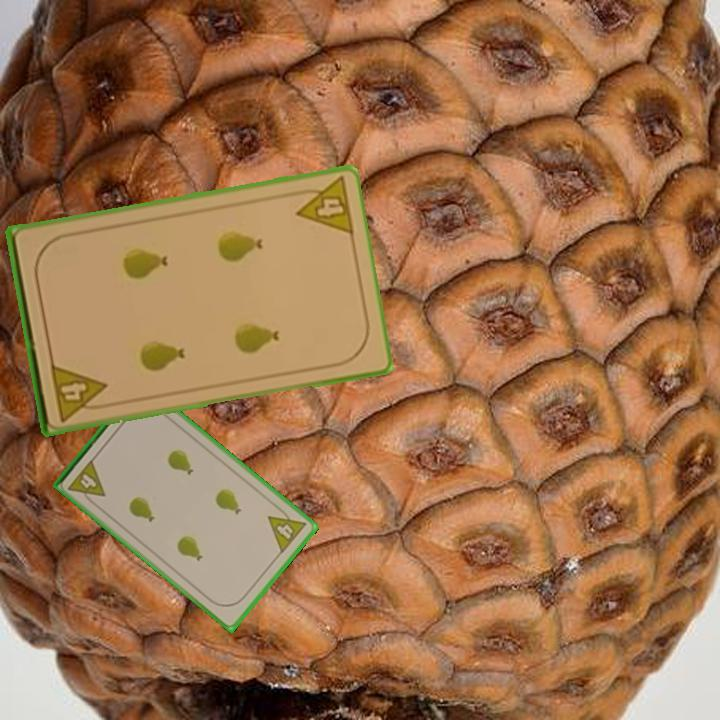4p: (287, 173, 356, 238), (47, 359, 111, 424), (264, 502, 309, 557), (64, 455, 108, 509)
